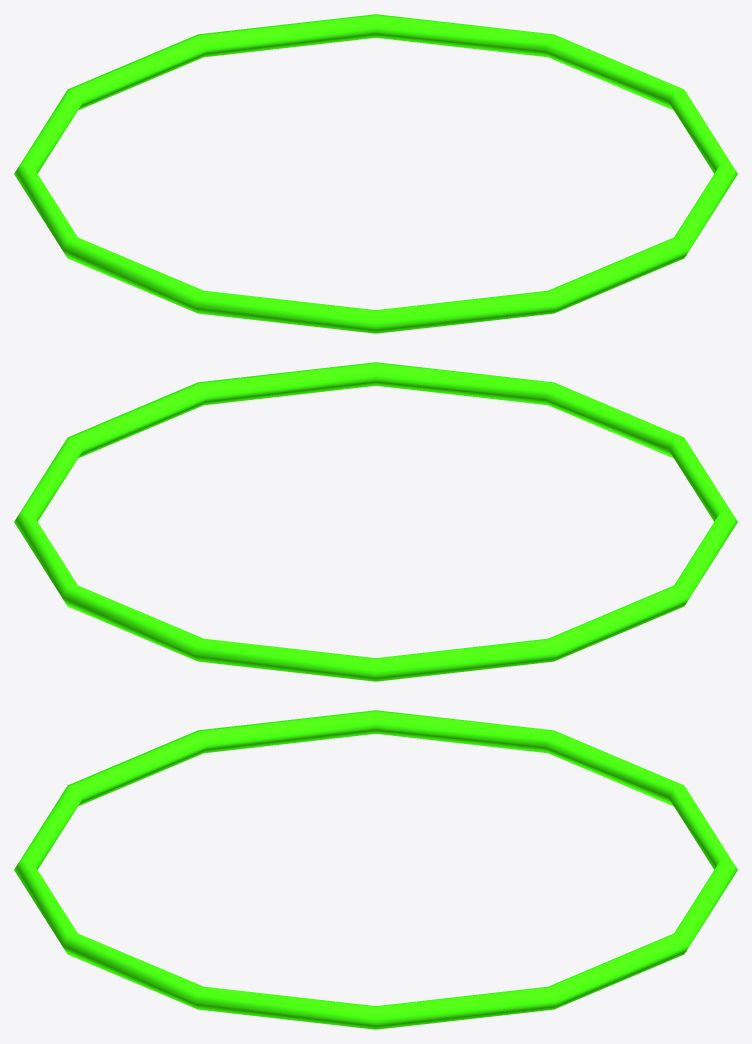
The model's file is HulaHoopGreen.glb.
3 views of the same model, one above another, from view 1: azimuth 30°, elevation 25°; view 2: azimuth 150°, elevation 25°; view 3: azimuth 270°, elevation 25° (orthographic).
Parts seen in each view (by area): view 1: HulaHoopGreen; view 2: HulaHoopGreen; view 3: HulaHoopGreen.
Boxes of the visible parts, box(x1,y1,x2,y2) form: HulaHoopGreen: box(14, 14, 737, 333); HulaHoopGreen: box(14, 362, 737, 681); HulaHoopGreen: box(14, 710, 737, 1029).
Bounding box in the file's own units: 1.04 × 0.0296 × 1.04.
1 material, 1 textured.
